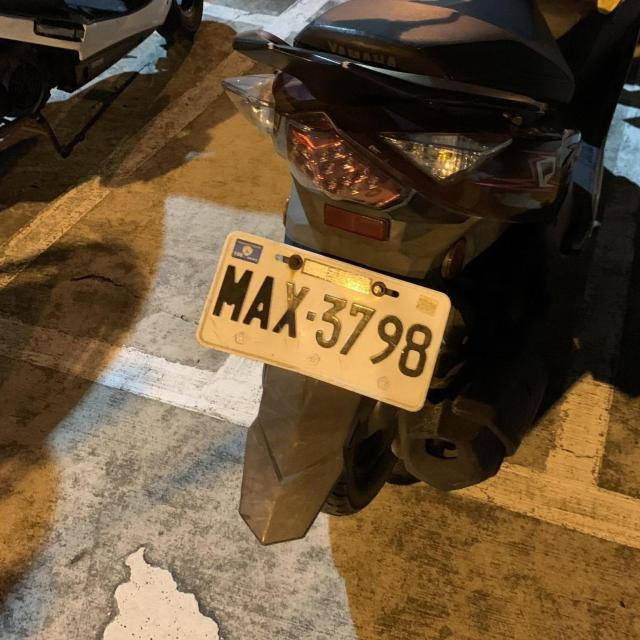W: (187, 223, 459, 416)
